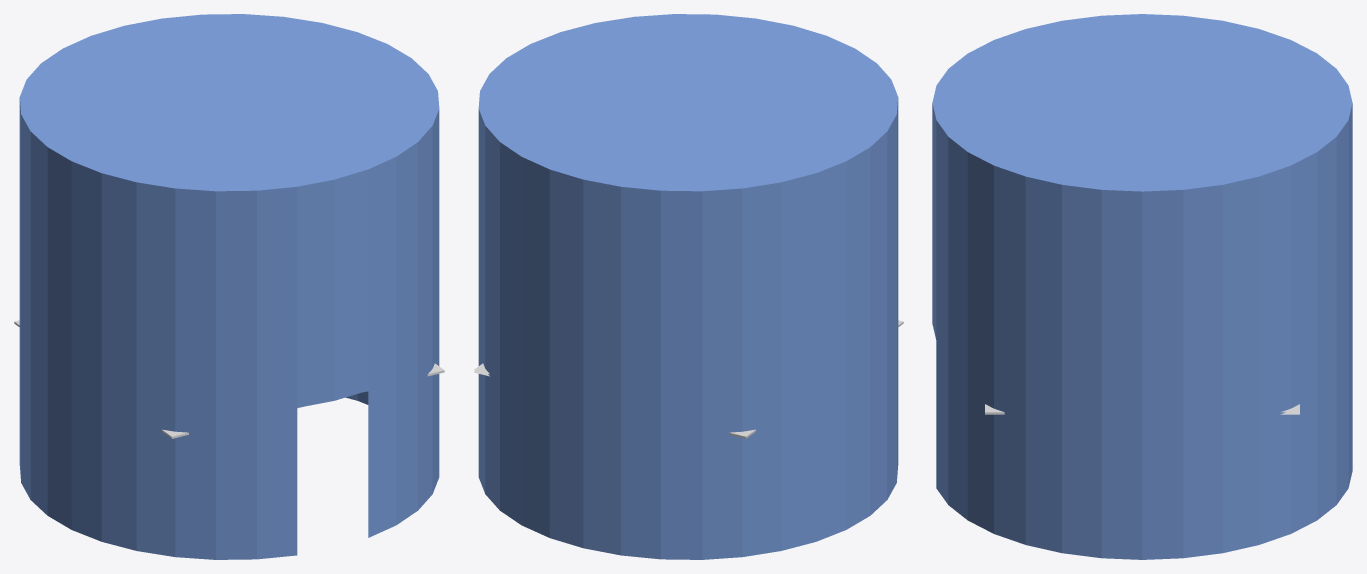
The picture shows the model from 3 angles, left to right: view 1: azimuth 30°, elevation 25°; view 2: azimuth 150°, elevation 25°; view 3: azimuth 270°, elevation 25°; orthographic projection.
Parts seen in each view (by area): view 1: House, Cylinder.001; view 2: House, Cylinder.001; view 3: House, Cylinder.001.
Boxes of the visible parts, bbox=[...] form: House: bbox=[19, 97, 439, 559]; Cylinder.001: bbox=[20, 14, 439, 191]; House: bbox=[478, 97, 898, 559]; Cylinder.001: bbox=[478, 14, 897, 191]; House: bbox=[932, 103, 1352, 559]; Cylinder.001: bbox=[932, 14, 1352, 191].
Size of what is drawn, in the model's own units: 14.46 by 14 by 14.46.
